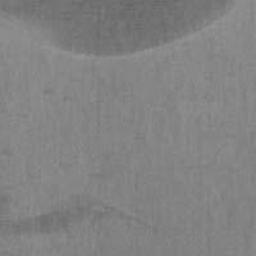Oil spot: (0, 169, 173, 256), (0, 0, 242, 60)
